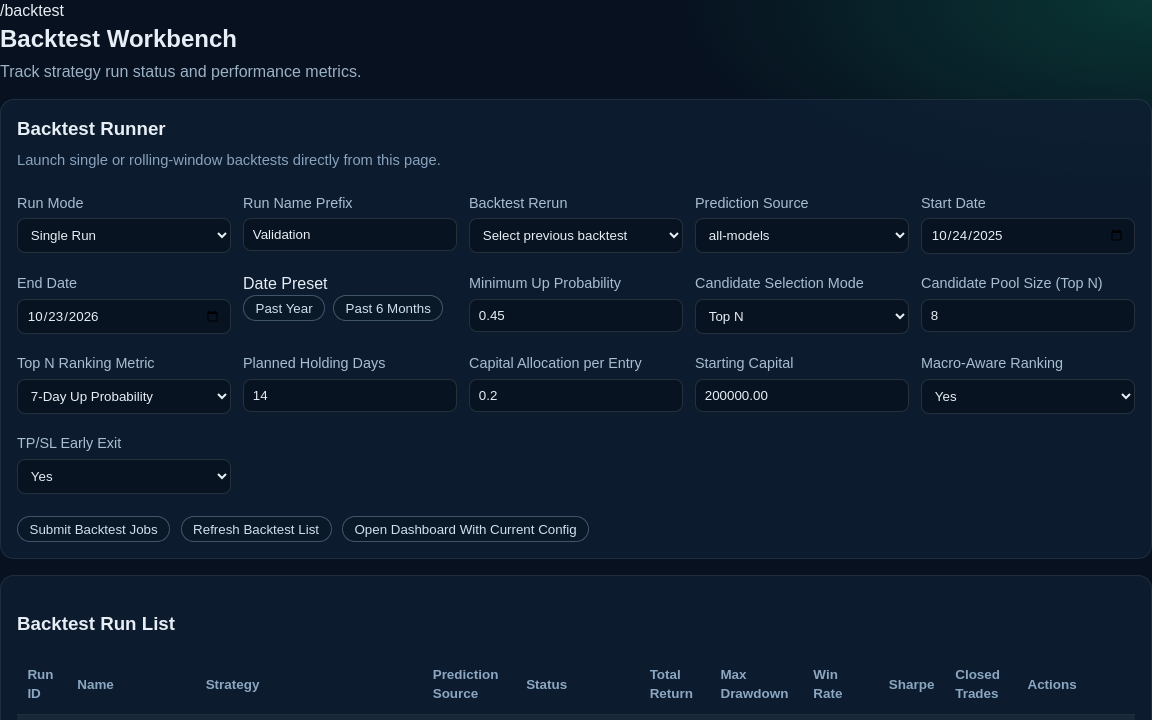
Test case: BacktestWorkbenchPage runner controls › loads a previous run config and updates the prefix to rerun id
This screenshot has width=1152, height=720.
Select "#84 Validation-lightgbm-2023-01-01-2024-12-31" in the dropdown labelled "Backtest Rerun". click: [576, 236]
box: top-left (469, 218), bottom-right (683, 253)
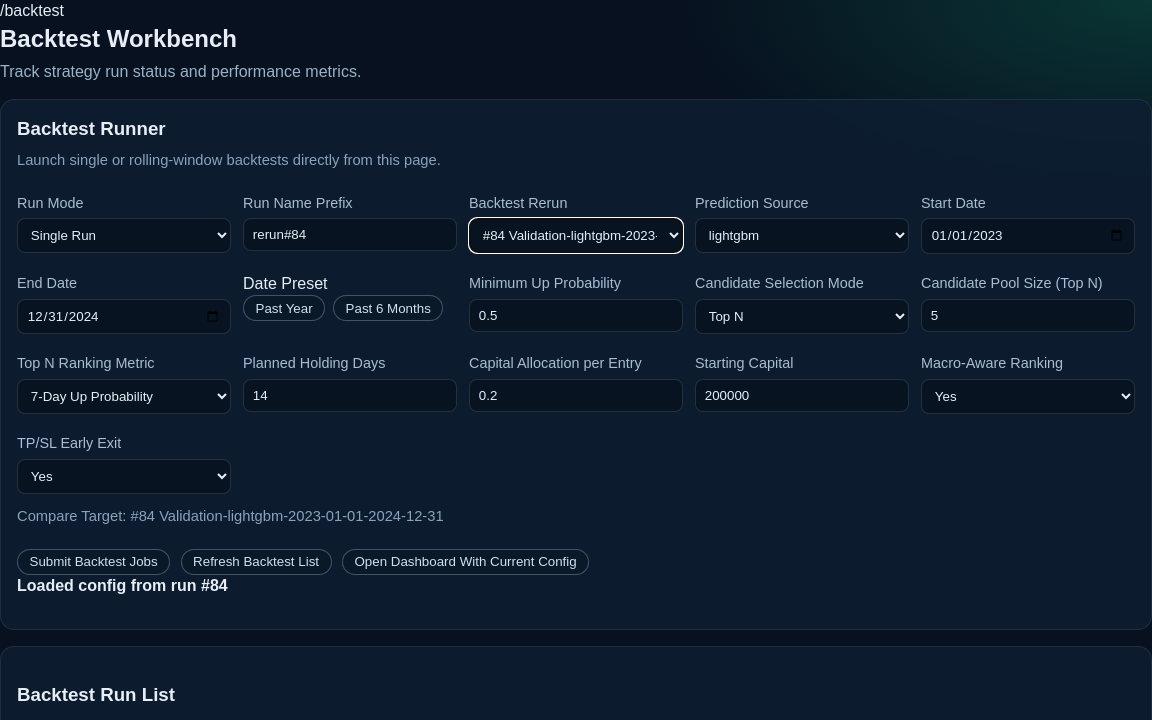
Now the field labelled "Run Name Prefix" holds "rerun#84", box top-left (243, 218), bottom-right (457, 251)
Now the dropdown labelled "Prediction Source" shows "lightgbm", box top-left (695, 218), bottom-right (909, 253)
Now the date field labelled "Start Date" holds "2023-01-01", box top-left (921, 218), bottom-right (1135, 254)
